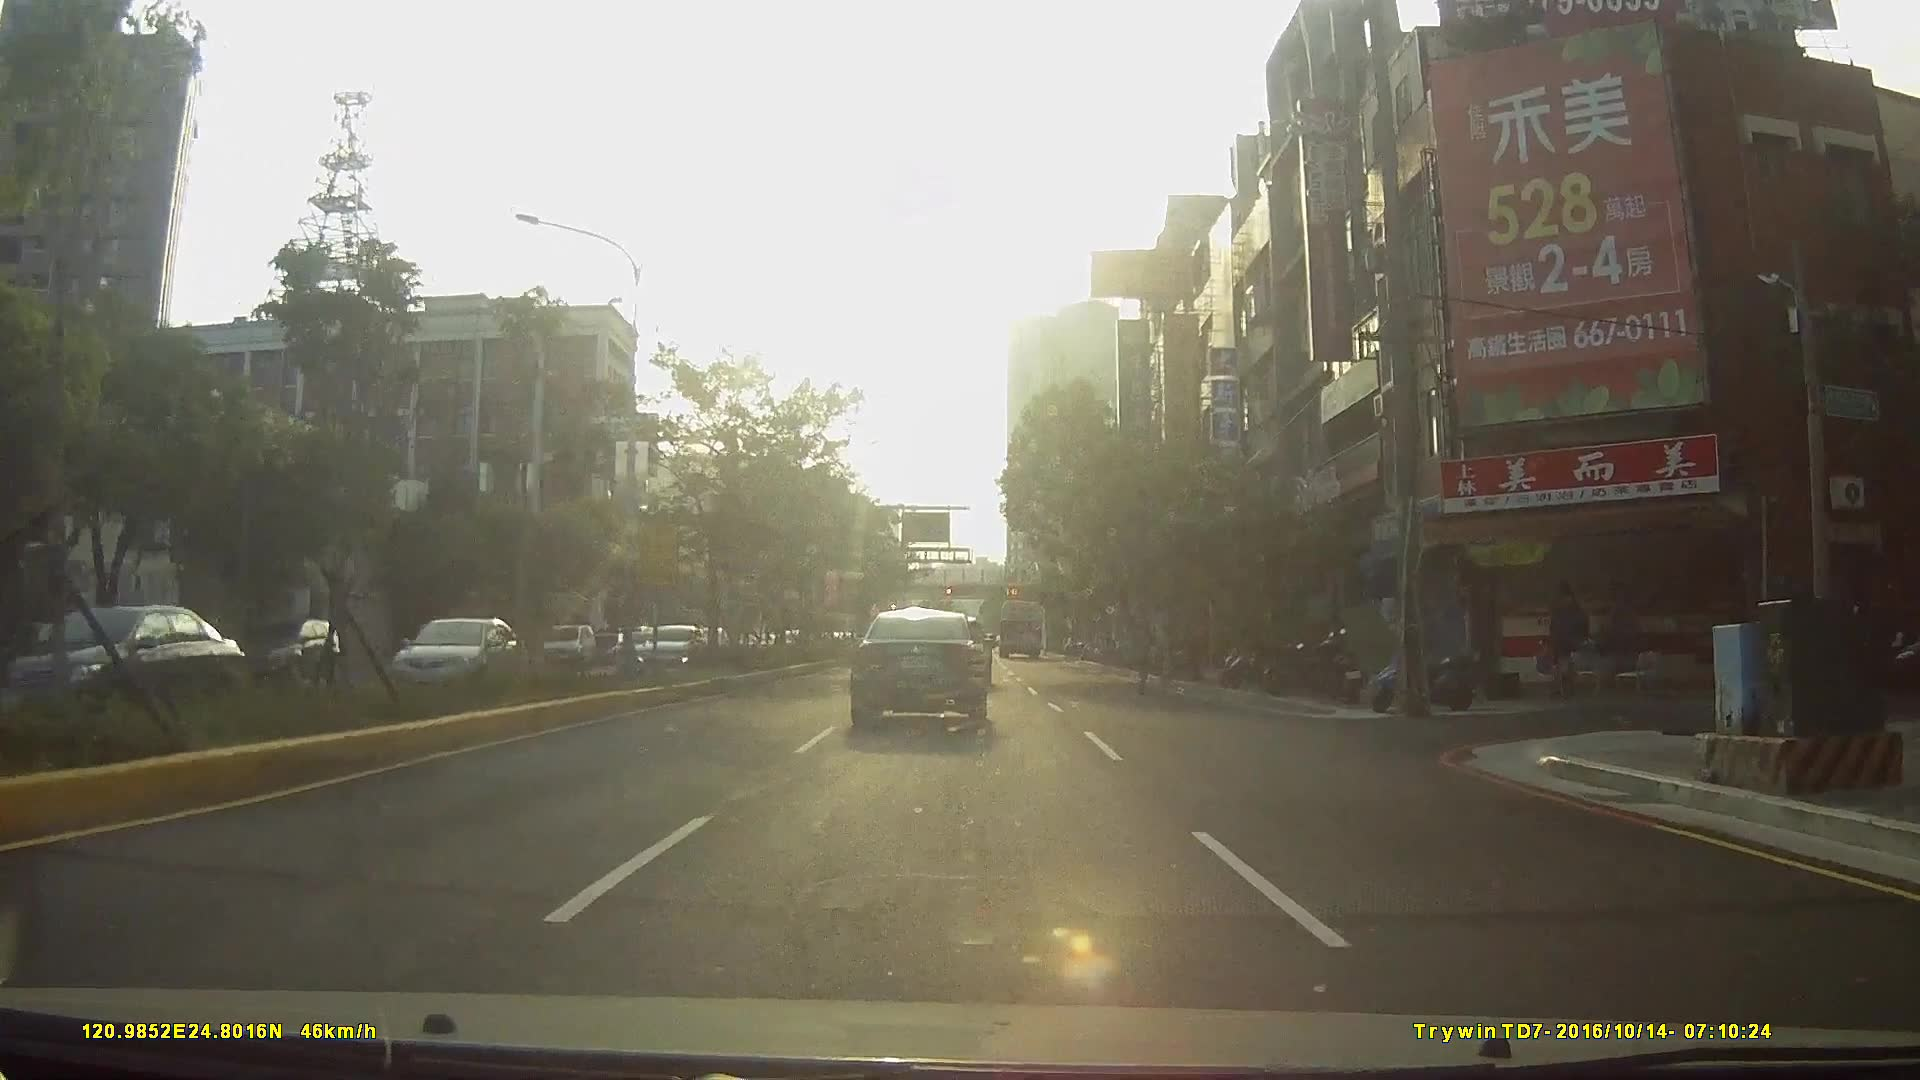pedestrian: (1130, 611, 1167, 691)
vehicle: (1, 604, 269, 761), (848, 607, 991, 731), (377, 604, 528, 721), (6, 619, 121, 704), (228, 618, 340, 689), (620, 623, 712, 673), (996, 596, 1043, 658), (539, 621, 595, 666)
